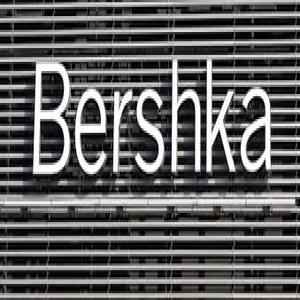bershka: (31, 46, 275, 197)
